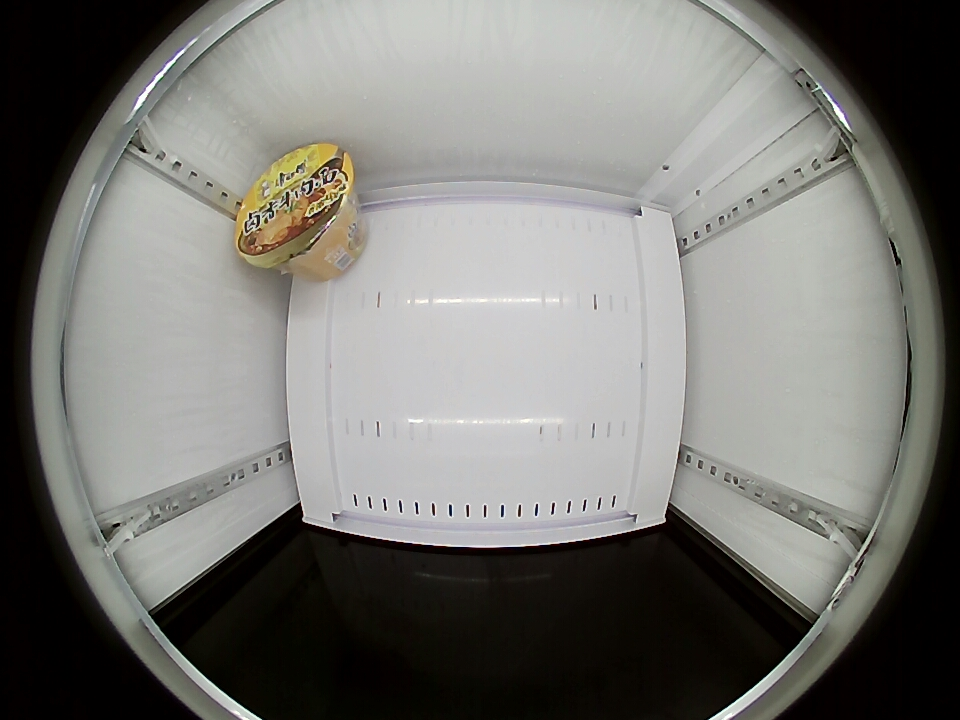luxiangniurou: (235, 143, 354, 268)
